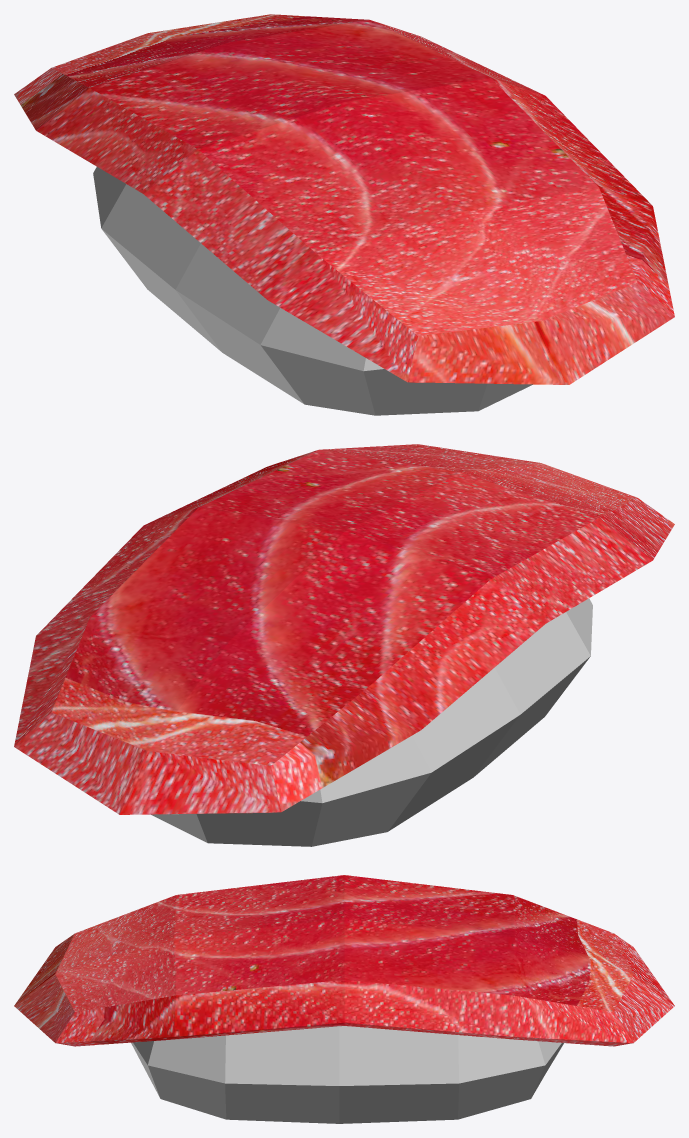
Rendered from まぐろ.fbx.
The picture shows the model from 3 angles, top to bottom: view 1: azimuth 30°, elevation 25°; view 2: azimuth 150°, elevation 25°; view 3: azimuth 270°, elevation 25°; orthographic projection. The views are drawn at different scales.
Parts seen in each view (by area): view 1: 立方体.001, 立方体.003; view 2: 立方体.001, 立方体.003; view 3: 立方体.001, 立方体.003.
Part boxes in pixels (x1,y1,x2,y2): 立方体.001: (14, 14, 674, 384); 立方体.003: (93, 167, 532, 415); 立方体.001: (14, 444, 674, 814); 立方体.003: (151, 598, 592, 846); 立方体.001: (14, 875, 674, 1046); 立方体.003: (131, 1026, 563, 1123).
Bounding box in the file's own units: 80.68 × 47.07 × 156.
2 materials, 1 textured.
